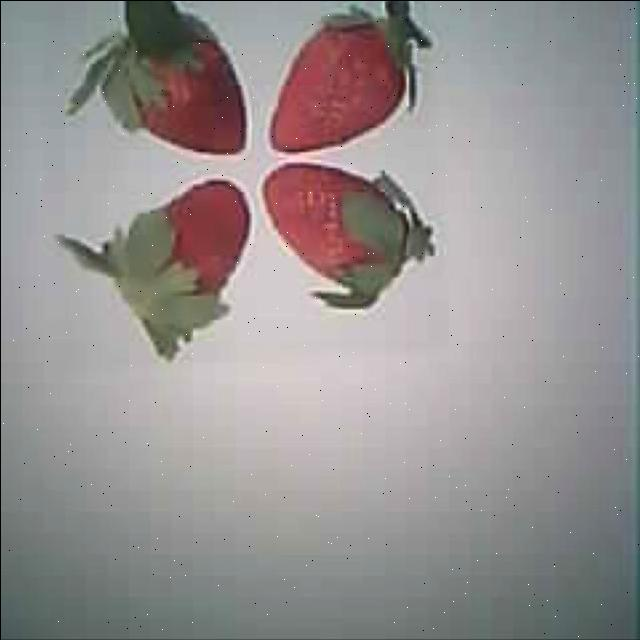strawberry: (266, 23, 411, 153), (264, 164, 404, 288), (131, 182, 251, 316), (140, 27, 247, 155)
